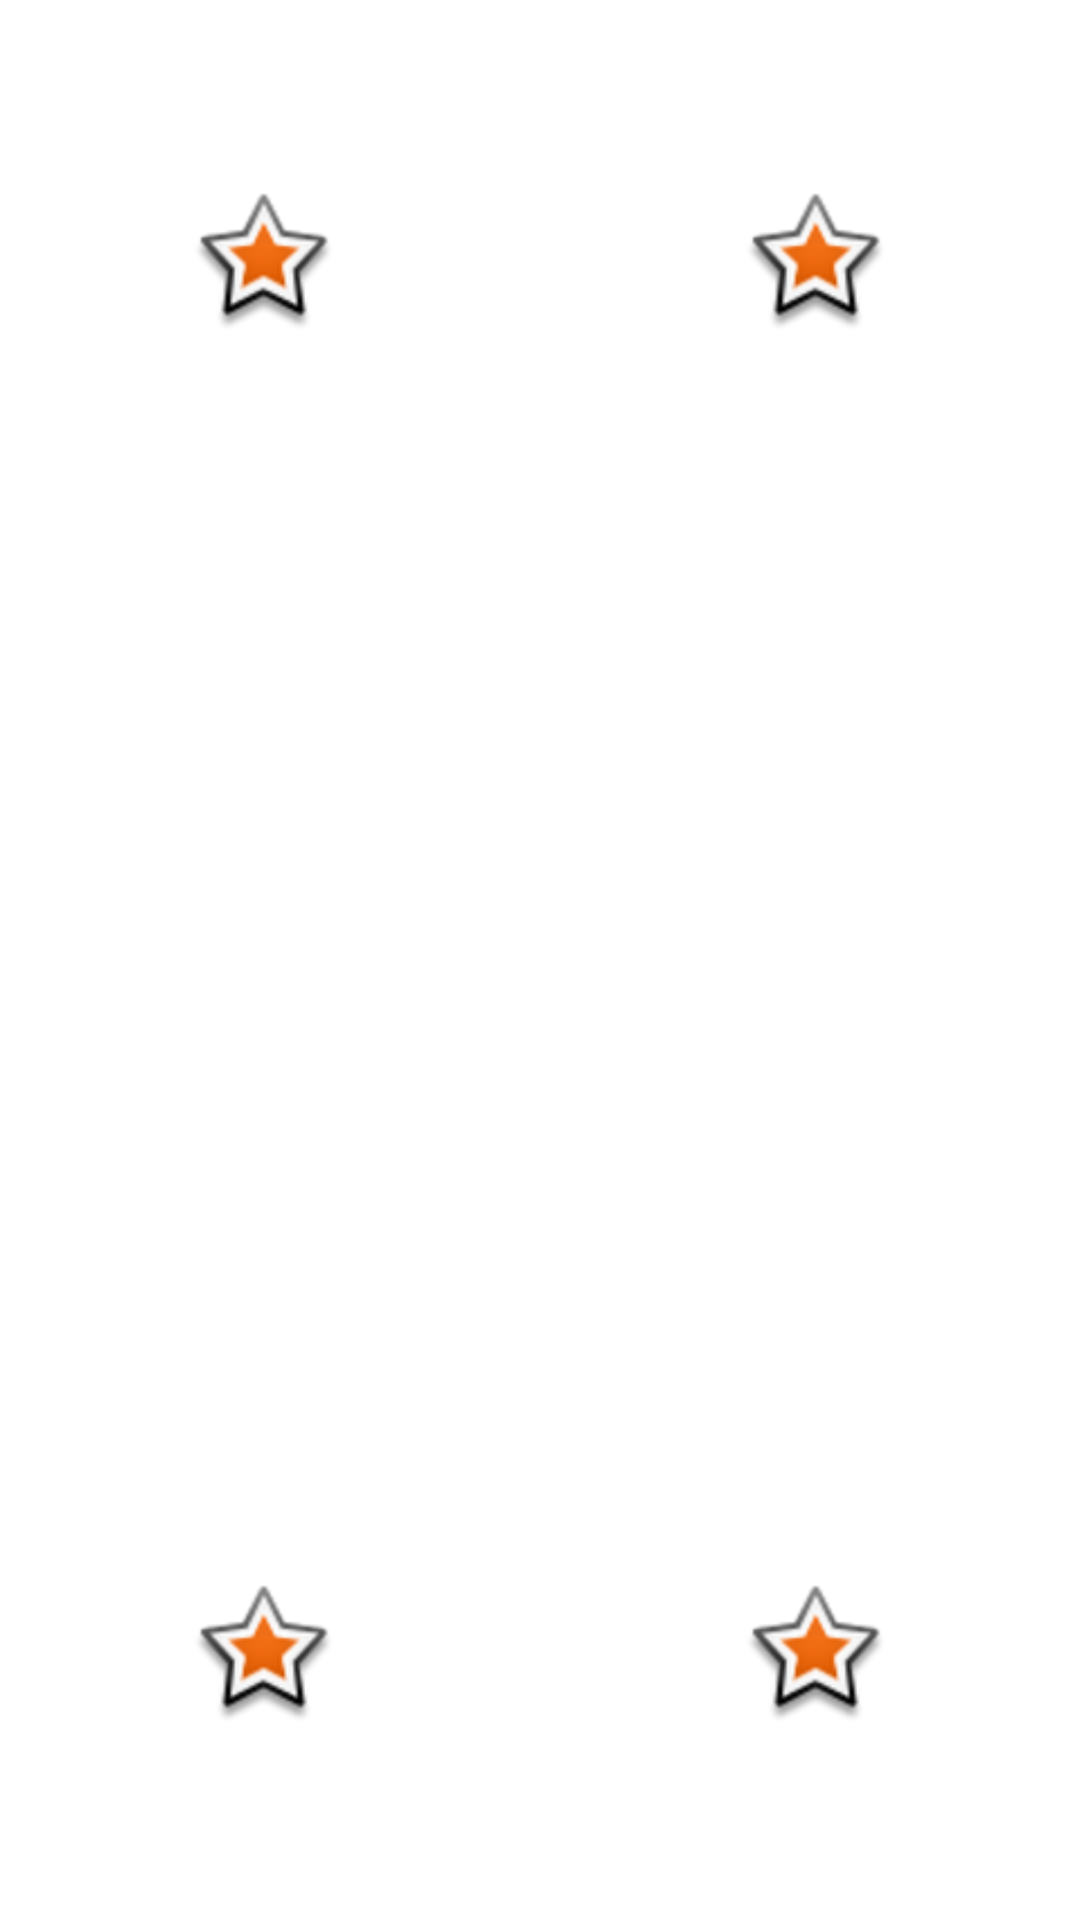

Named icons in this screenshot (1080px×1920px) and their bounding boxes, box=[x1, y1, x2, y2]:
star on: box=[200, 194, 328, 324], box=[752, 194, 880, 324], box=[200, 1586, 328, 1716], box=[752, 1586, 880, 1716]
